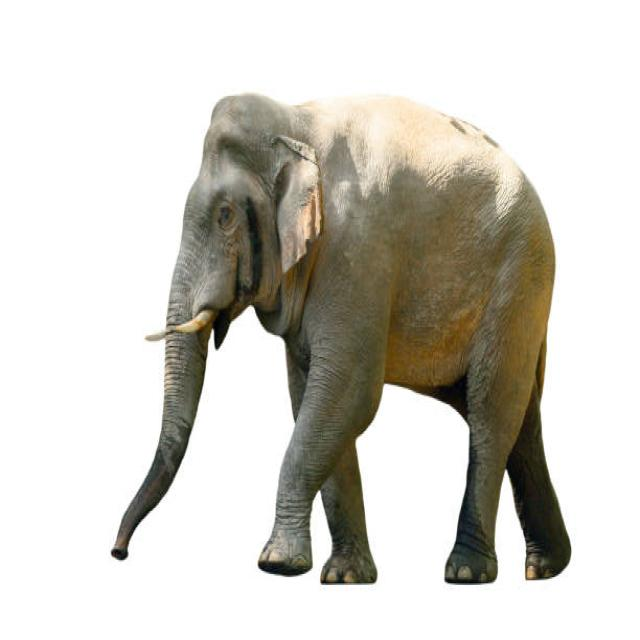Elephant: (111, 84, 583, 606)
